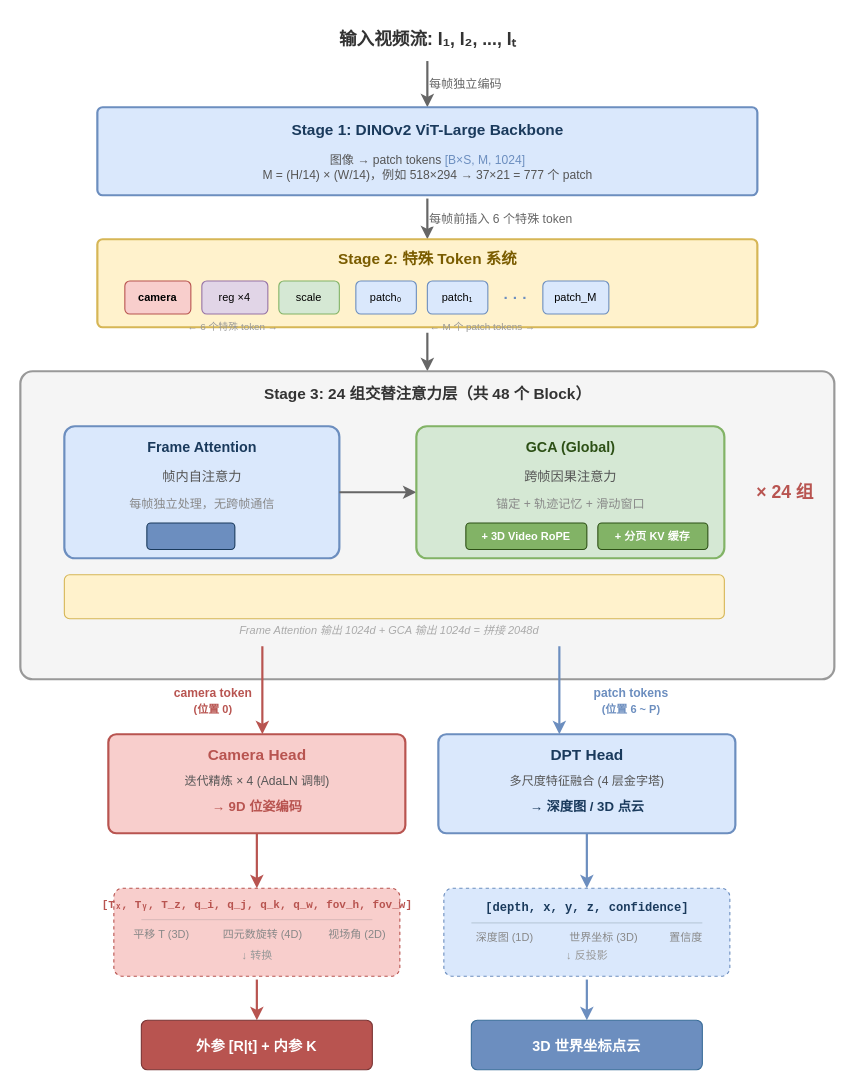
The diagram is 854 pixels wide and 1089 high, and some of its shapes have lost their labels. Here are the shapes that lost their labels. From the top down, the centre of each, then its label:
(x=190, y=535): + 2D RoPE
(x=393, y=596): 在第 [4, 11, 17, 23] 组提取多尺度特征 → frame_feat ⊕ global_feat → [B, S, P, 2048]
